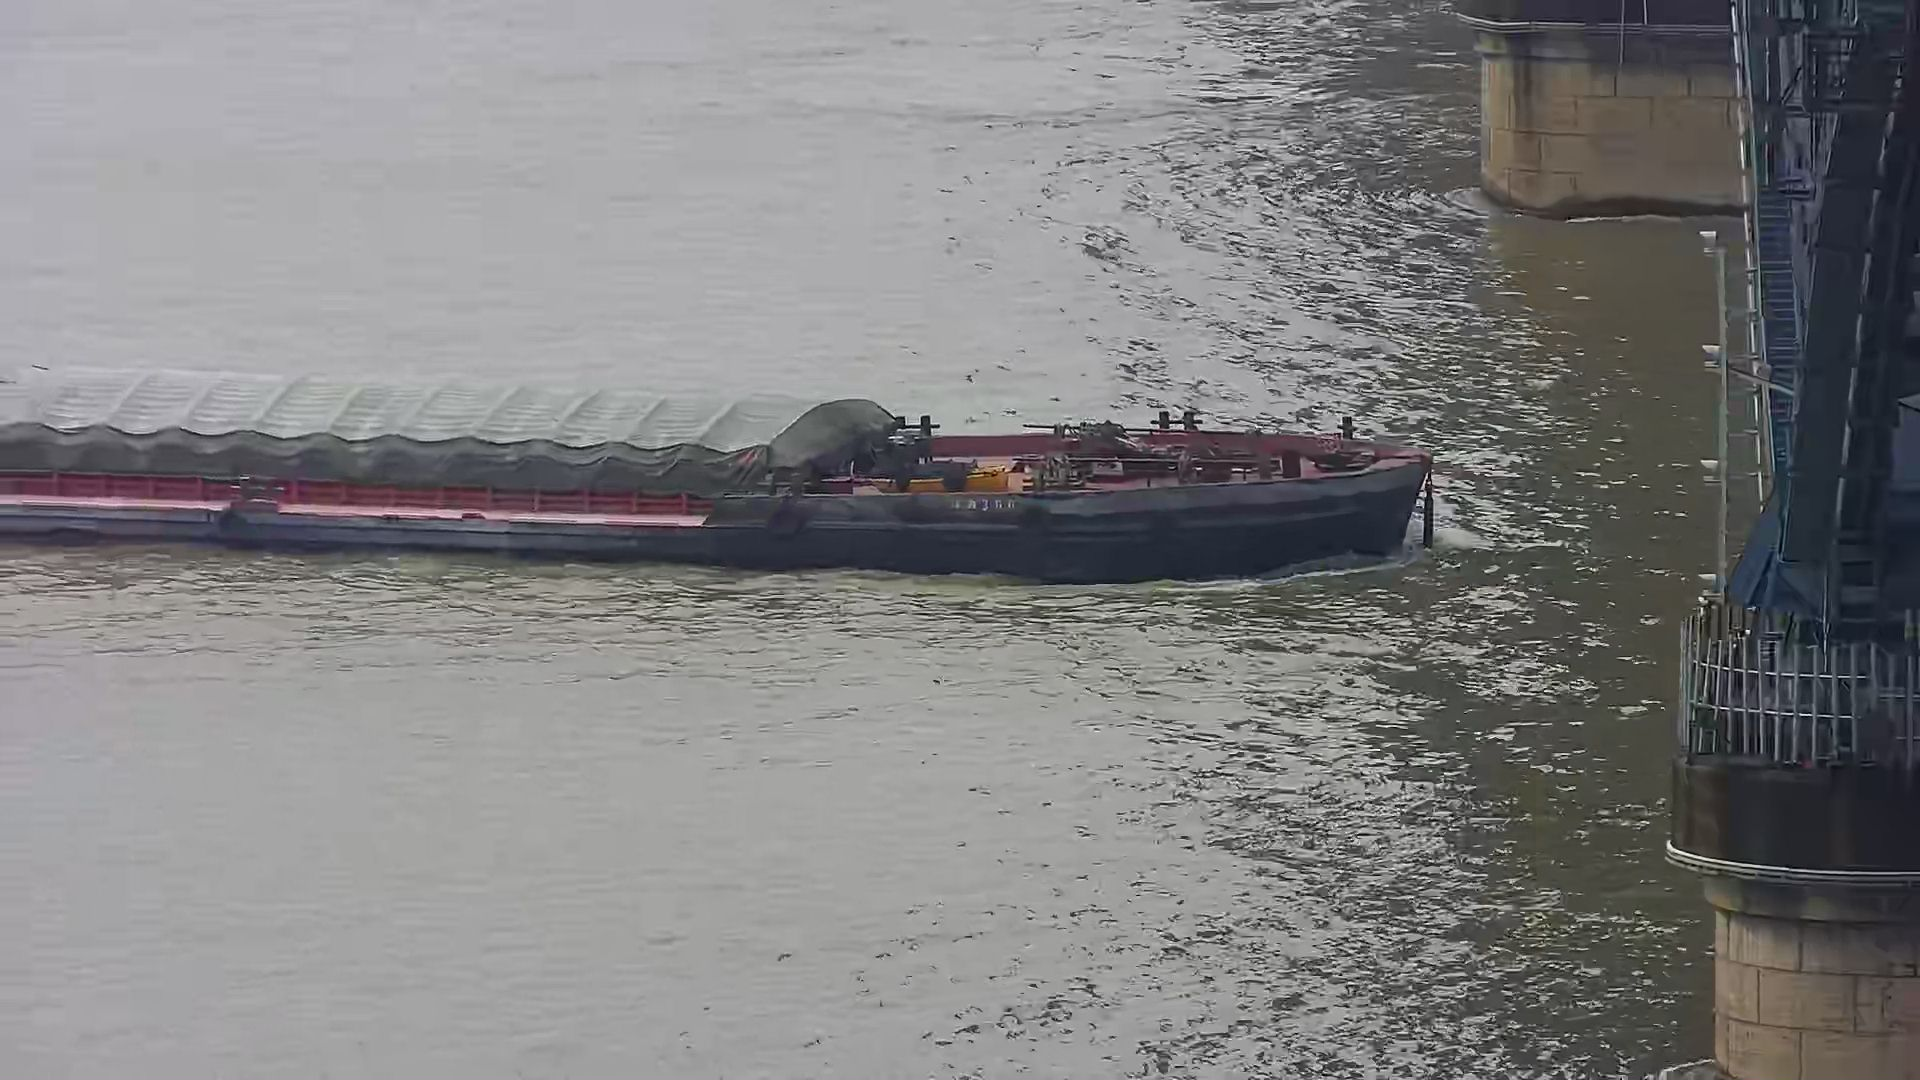bridge: (1429, 1, 1920, 1080)
ship: (1, 339, 1481, 589)
